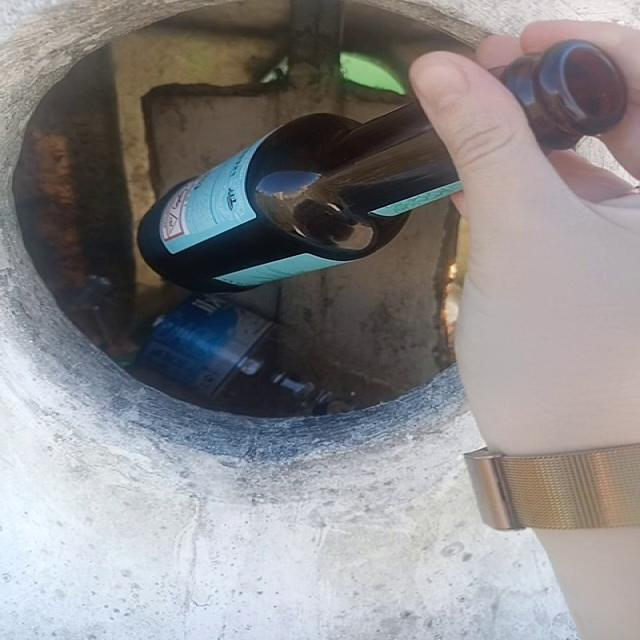glass: (140, 103, 460, 292), (505, 40, 627, 148)
